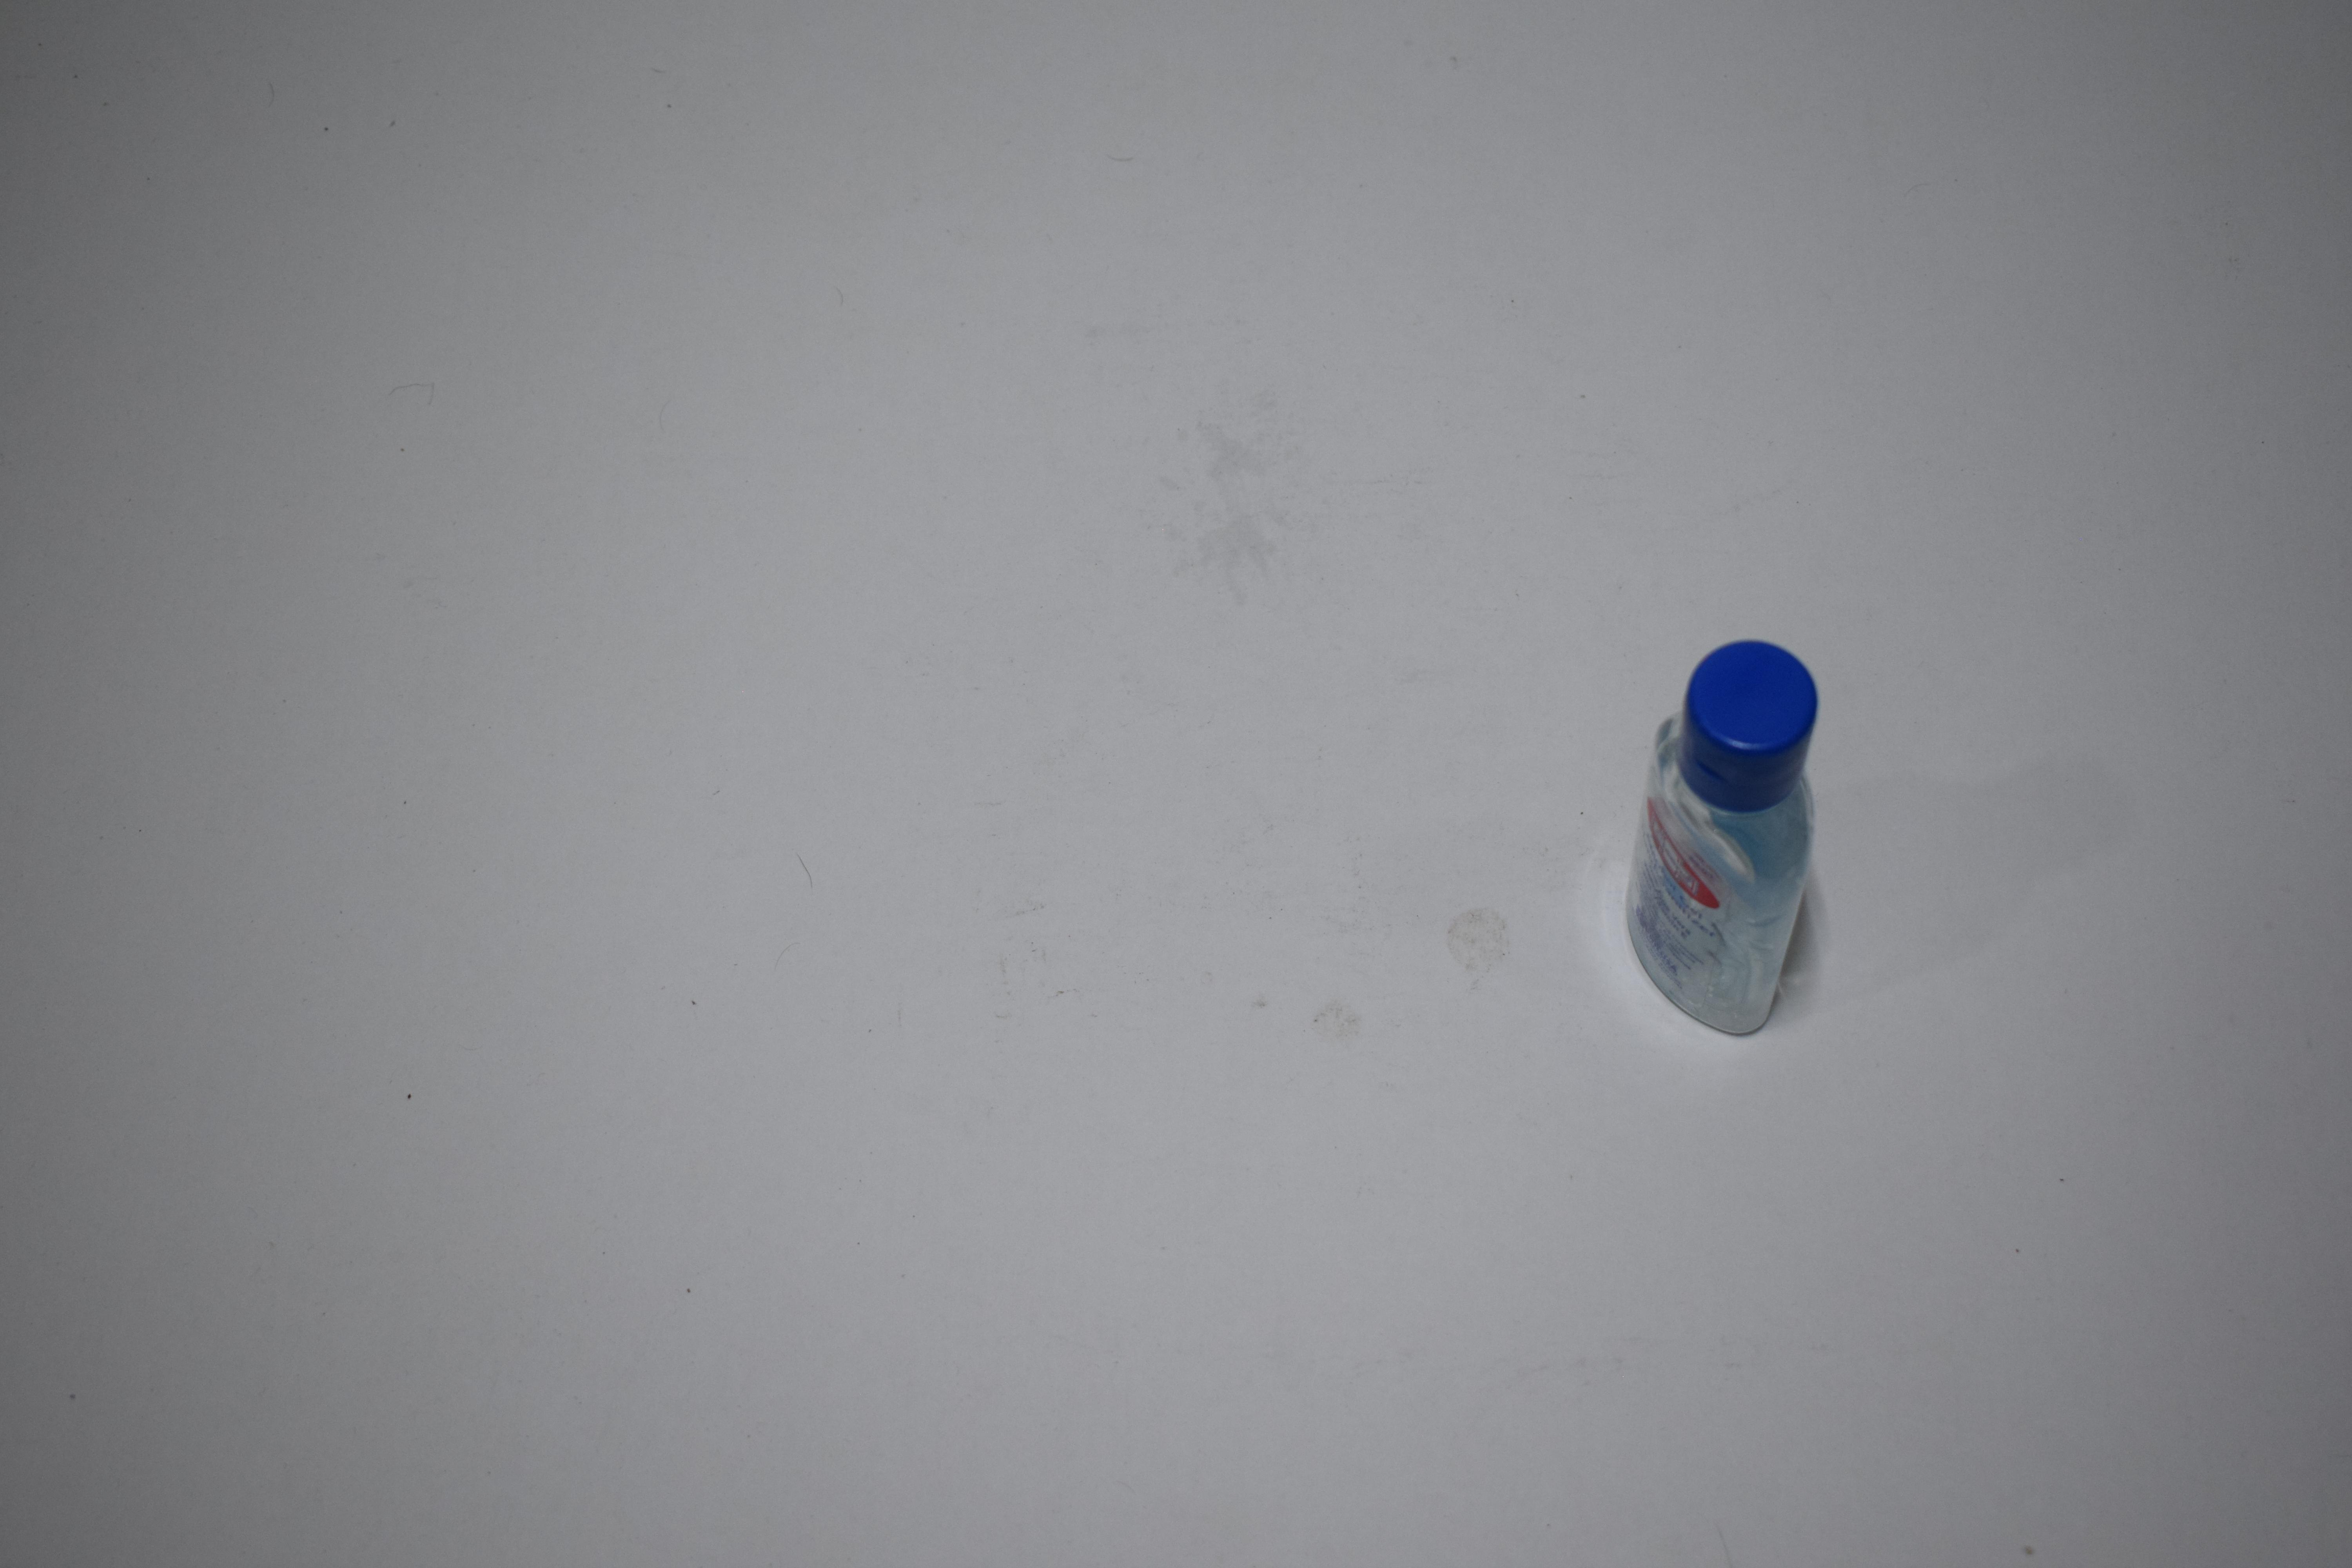bottle: (1619, 0, 1824, 254)
